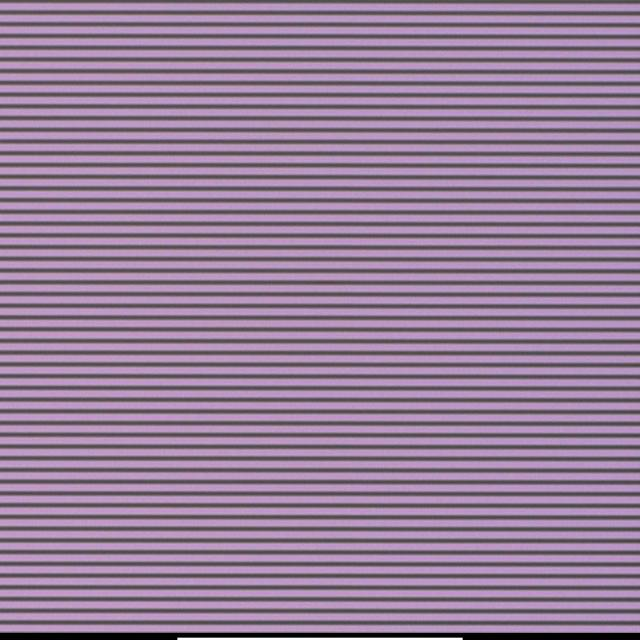nonvisual: (297, 264, 310, 277)
